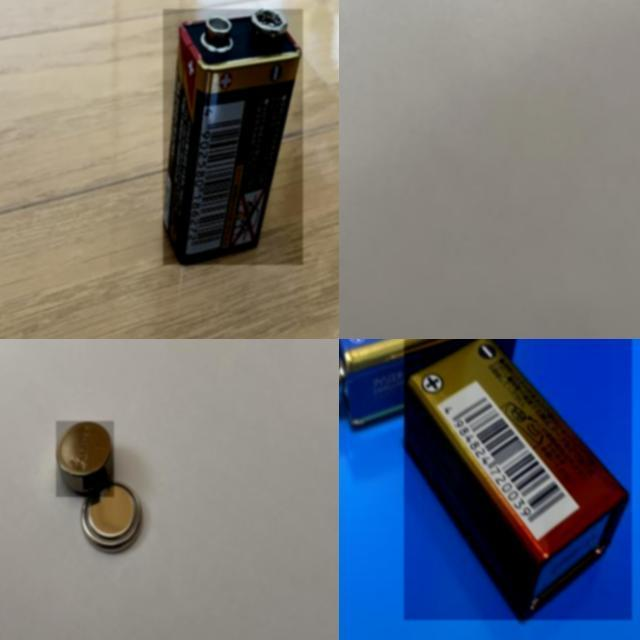9V: (404, 339, 632, 620), (163, 9, 303, 266), (339, 339, 518, 428)
